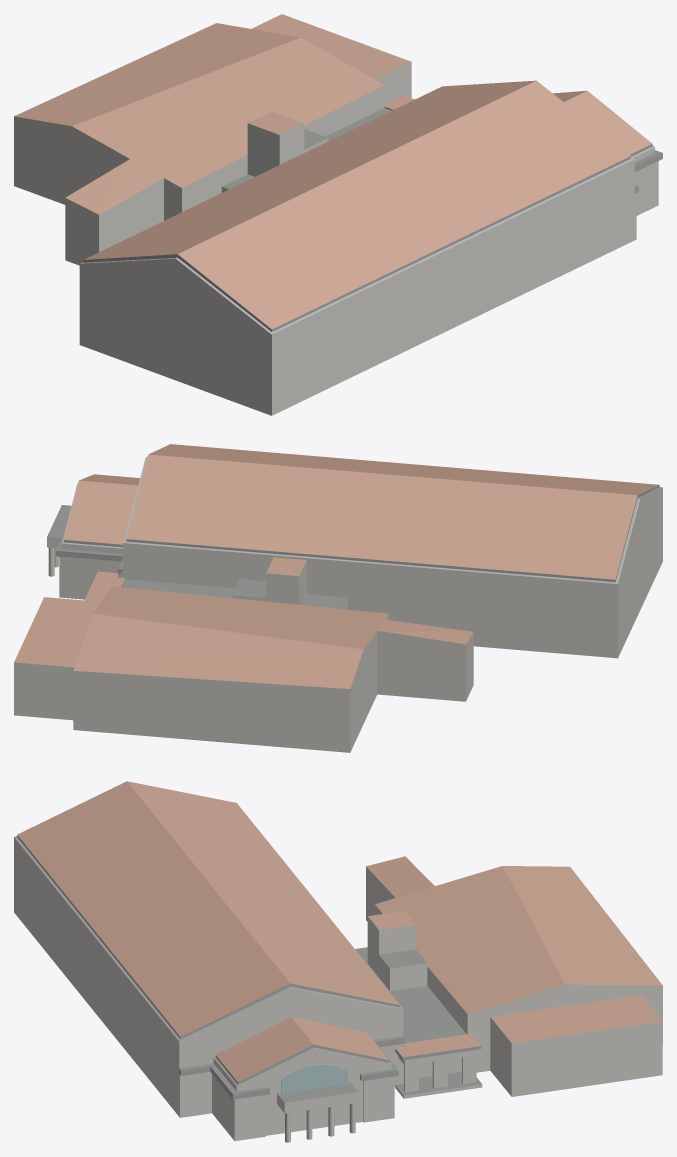
The model's file is gridID_73.dae.
3 renders of one model, top to bottom at view 1: azimuth 30°, elevation 25°; view 2: azimuth 150°, elevation 25°; view 3: azimuth 270°, elevation 25°, orthographic. The views are drawn at different scales.
Visible parts, largest first — view 1: model_gridID_73_w375944085, model_gridID_73_w375944085_001; view 2: model_gridID_73_w375944085, model_gridID_73_w375944085_001; view 3: model_gridID_73_w375944085, model_gridID_73_w375944085_001.
Part boxes in pixels (bbox=[...]): model_gridID_73_w375944085: bbox=[79, 80, 662, 415]; model_gridID_73_w375944085_001: bbox=[14, 14, 414, 265]; model_gridID_73_w375944085: bbox=[47, 444, 662, 658]; model_gridID_73_w375944085_001: bbox=[14, 557, 473, 752]; model_gridID_73_w375944085: bbox=[14, 781, 404, 1142]; model_gridID_73_w375944085_001: bbox=[355, 856, 662, 1098].
Size of the model in its own units: 52.6 by 54.7 by 10.8.
